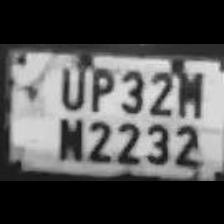2: (170, 118, 202, 168), (144, 64, 174, 114), (83, 114, 111, 162), (112, 116, 140, 164)
3: (114, 64, 146, 112), (141, 118, 170, 166)
M: (172, 64, 204, 118)
N: (51, 111, 84, 160)
P: (85, 62, 116, 113)
U: (54, 60, 86, 108)
